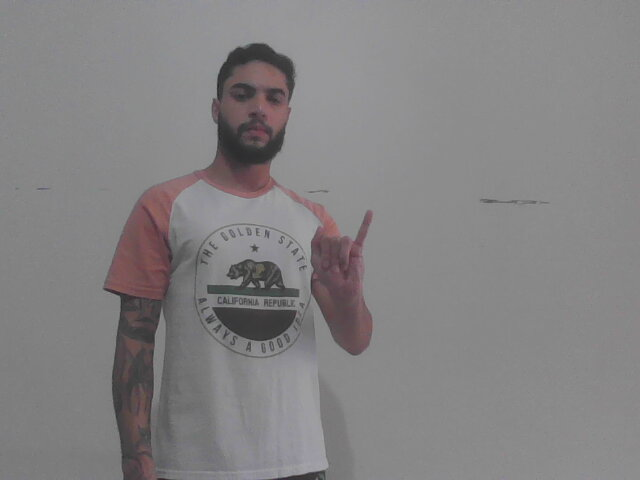i: (307, 204, 377, 310)
